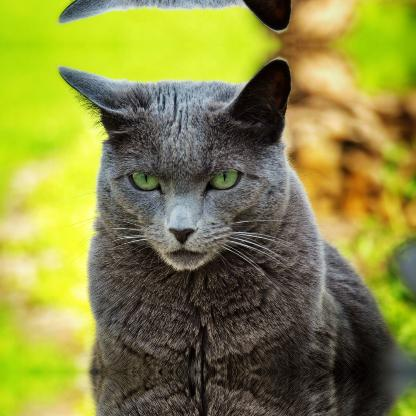Cat: (53, 55, 415, 370)
